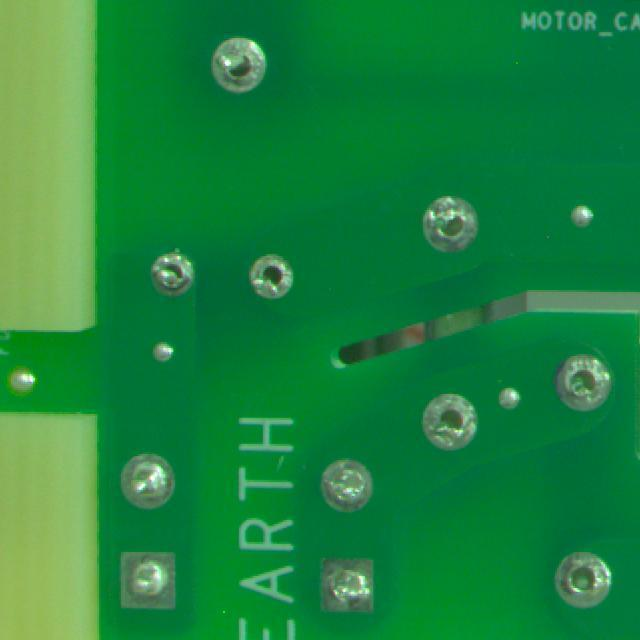Insufficient solder: (105, 533, 190, 615), (413, 181, 483, 270), (545, 540, 624, 612), (315, 539, 379, 621), (548, 346, 619, 417), (204, 26, 269, 101), (414, 388, 484, 455), (309, 455, 374, 521), (242, 242, 298, 306), (120, 452, 184, 506), (141, 248, 201, 297)
